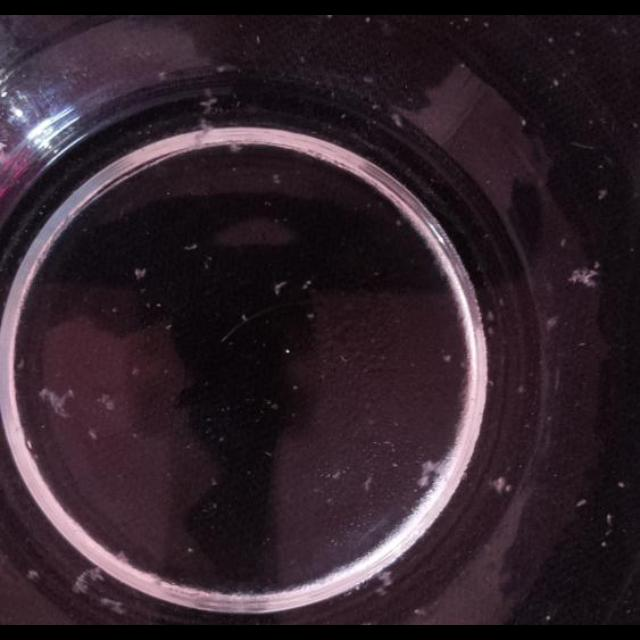Fibre: (72, 560, 130, 614), (38, 386, 74, 412), (418, 458, 446, 488), (568, 266, 600, 288), (95, 392, 116, 413), (198, 96, 218, 114), (273, 280, 287, 296), (134, 268, 146, 280)
microbeads: (490, 473, 514, 495), (24, 564, 40, 580), (546, 314, 560, 330), (362, 476, 373, 492), (184, 242, 198, 252), (88, 429, 98, 441), (486, 310, 496, 322), (606, 512, 614, 526), (271, 173, 281, 184), (362, 74, 373, 84), (442, 354, 452, 364), (301, 280, 311, 290), (598, 190, 608, 200), (130, 366, 140, 376), (332, 470, 342, 480), (339, 354, 349, 364), (576, 498, 586, 508), (16, 357, 24, 369), (518, 383, 526, 393), (559, 238, 567, 248), (210, 476, 218, 486), (396, 218, 404, 228), (552, 78, 560, 88), (254, 34, 262, 44), (187, 546, 196, 554), (307, 312, 315, 320), (165, 322, 173, 330), (292, 384, 300, 392), (617, 481, 625, 489), (271, 402, 279, 410), (391, 461, 399, 469), (520, 118, 528, 126), (593, 261, 601, 269), (242, 314, 248, 322), (156, 302, 162, 308), (602, 542, 608, 548)
